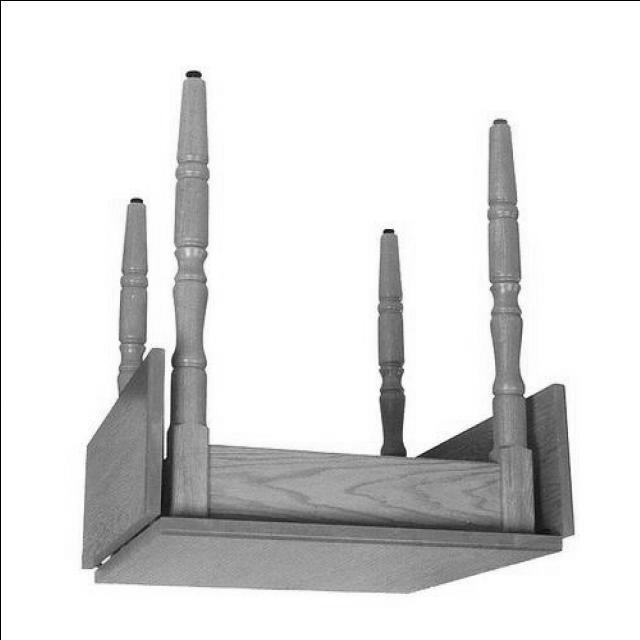table: (86, 69, 566, 598)
